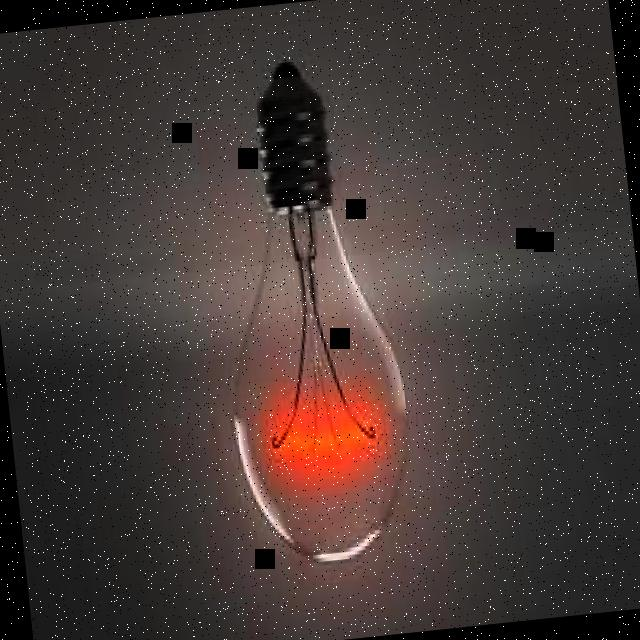light_bulb: (184, 13, 432, 590)
